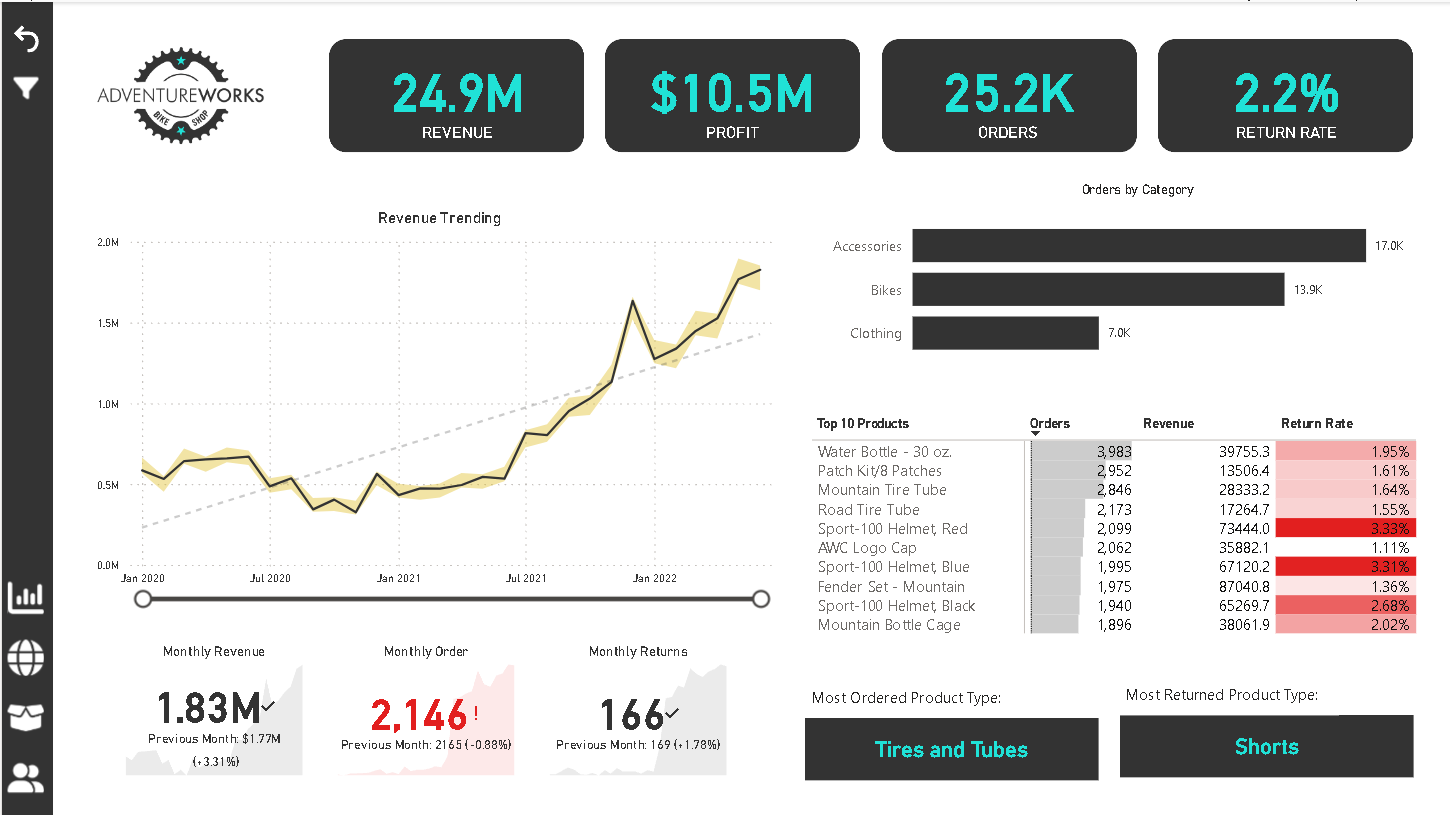

Layout of this report page (visuals, bound fields, positions):
{"tool":"powerbi","page":{"name":"Exec Dashboard","canvas":[1280,720],"ordinal":0},"visuals":[{"type":"image","title":"Logo","box":[45,32.5,225,100],"z":0},{"type":"group","id":"g1","title":"KPI Bg","box":[288.8,32.5,956.2,100],"z":0,"group":"g3"},{"type":"shape","box":[288.8,32.5,225,100],"z":0,"group":"g1"},{"type":"card","fields":{"Values":["Measure Table.Total Revenue"]},"box":[297.6,32.5,208.8,100],"z":0,"group":"g2"},{"type":"shape","title":"Left Nav Bg","box":[0,0,45,720],"z":1000},{"type":"group","id":"g2","title":"KPI Values","box":[297.6,32.5,940,100],"z":1000,"group":"g3"},{"type":"shape","box":[532.6,32.5,225,100],"z":1000,"group":"g1"},{"type":"card","fields":{"Values":["Measure Table.Total Profit"]},"box":[540.1,32.5,208.8,100],"z":1000,"group":"g2"},{"type":"group","id":"g3","title":"KPI","box":[288.8,32.5,956.2,100],"z":2000},{"type":"shape","box":[776.3,32.5,225,100],"z":2000,"group":"g1"},{"type":"card","fields":{"Values":["Measure Table.Total Order"]},"box":[783.8,32.5,208.8,100],"z":2000,"group":"g2"},{"type":"shape","box":[1020,32.5,225,100],"z":3000,"group":"g1"},{"type":"card","fields":{"Values":["Measure Table.Return Rate"]},"box":[1028.8,32.5,208.8,100],"z":3000,"group":"g2"},{"type":"lineChart","title":"Revenue Trending","fields":{"Y":["Measure Table.Total Revenue"],"Category":["Calendar Lookup.Start of Month"]},"box":[77.5,182.5,616.2,355],"z":3000},{"type":"kpi","title":"Monthly Revenue","fields":{"Indicator":["Measure Table.Total Revenue"],"TrendLine":["Calendar Lookup.Start of Month"],"Goal":["Measure Table.Previous Month Revenue"]},"box":[103.9,566.2,166.3,121.1],"z":4000},{"type":"kpi","title":"Monthly Order","fields":{"TrendLine":["Calendar Lookup.Start of Month"],"Indicator":["Measure Table.Total Order"],"Goal":["Measure Table.Previous Months Orders"]},"box":[291.2,566.2,166,121],"z":5000},{"type":"kpi","title":"Monthly Returns","fields":{"TrendLine":["Calendar Lookup.Start of Month"],"Indicator":["Measure Table.Total Returns"],"Goal":["Measure Table.Previous Months Returns"]},"box":[478.1,566.2,166.3,121.1],"z":6000},{"type":"barChart","title":"Orders by Category","fields":{"Category":["Product Categories Lookup.CategoryName"],"Y":["Measure Table.Total Order"]},"box":[723.9,159,555.2,170],"z":7000},{"type":"pivotTable","fields":{"Values":["Measure Table.Total Order","Measure Table.Total Revenue","Measure Table.Return Rate"],"Rows":["Product Lookup.ProductName"]},"box":[709.2,359.5,571.1,225],"z":8000},{"type":"card","fields":{"Values":["Min(Product Subcategories Lookup.SubcategoryName)"]},"box":[708.8,631.2,258.8,55],"z":9000},{"type":"textbox","box":[709.2,599.2,203,31.8],"z":10000},{"type":"card","fields":{"Values":["Min(Product Subcategories Lookup.SubcategoryName)"]},"box":[986.2,628.8,258.8,55],"z":11000},{"type":"textbox","box":[986.2,596.2,192.5,32.5],"z":12000},{"type":"actionButton","box":[4.9,15.9,35.5,33],"z":13000},{"type":"actionButton","box":[1.2,505.3,45.2,40.4],"z":14000},{"type":"actionButton","box":[1.2,558.3,45.2,40.4],"z":15000},{"type":"actionButton","box":[1.2,611.3,45.2,40.4],"z":16000},{"type":"actionButton","box":[1.2,664.3,45.2,40.4],"z":17000},{"type":"actionButton","box":[6.2,61.2,38.8,30],"z":18000}]}

Visuals, with their boxes on the page's 1280x720 design canvas (x1, y1, x2, y2). These are canvas units, not pixel positions in the 1450x815 screenshot, which may show the page scaled, cropped or inside an application window:
"Logo" image: (left=45, top=32, right=270, bottom=132)
"KPI Bg" group: (left=289, top=32, right=1245, bottom=132)
shape: (left=289, top=32, right=514, bottom=132)
card - Measure Table.Total Revenue: (left=298, top=32, right=506, bottom=132)
"Left Nav Bg" shape: (left=0, top=0, right=45, bottom=720)
"KPI Values" group: (left=298, top=32, right=1238, bottom=132)
shape: (left=533, top=32, right=758, bottom=132)
card - Measure Table.Total Profit: (left=540, top=32, right=749, bottom=132)
"KPI" group: (left=289, top=32, right=1245, bottom=132)
shape: (left=776, top=32, right=1001, bottom=132)
card - Measure Table.Total Order: (left=784, top=32, right=993, bottom=132)
shape: (left=1020, top=32, right=1245, bottom=132)
card - Measure Table.Return Rate: (left=1029, top=32, right=1238, bottom=132)
"Revenue Trending" lineChart: (left=78, top=182, right=694, bottom=538)
"Monthly Revenue" kpi: (left=104, top=566, right=270, bottom=687)
"Monthly Order" kpi: (left=291, top=566, right=457, bottom=687)
"Monthly Returns" kpi: (left=478, top=566, right=644, bottom=687)
"Orders by Category" barChart: (left=724, top=159, right=1279, bottom=329)
pivotTable - Measure Table.Total Order x Measure Table.Total Revenue: (left=709, top=360, right=1280, bottom=584)
card - Min(Product Subcategories Lookup.SubcategoryName): (left=709, top=631, right=968, bottom=686)
textbox: (left=709, top=599, right=912, bottom=631)
card - Min(Product Subcategories Lookup.SubcategoryName): (left=986, top=629, right=1245, bottom=684)
textbox: (left=986, top=596, right=1179, bottom=629)
actionButton: (left=5, top=16, right=40, bottom=49)
actionButton: (left=1, top=505, right=46, bottom=546)
actionButton: (left=1, top=558, right=46, bottom=599)
actionButton: (left=1, top=611, right=46, bottom=652)
actionButton: (left=1, top=664, right=46, bottom=705)
actionButton: (left=6, top=61, right=45, bottom=91)
